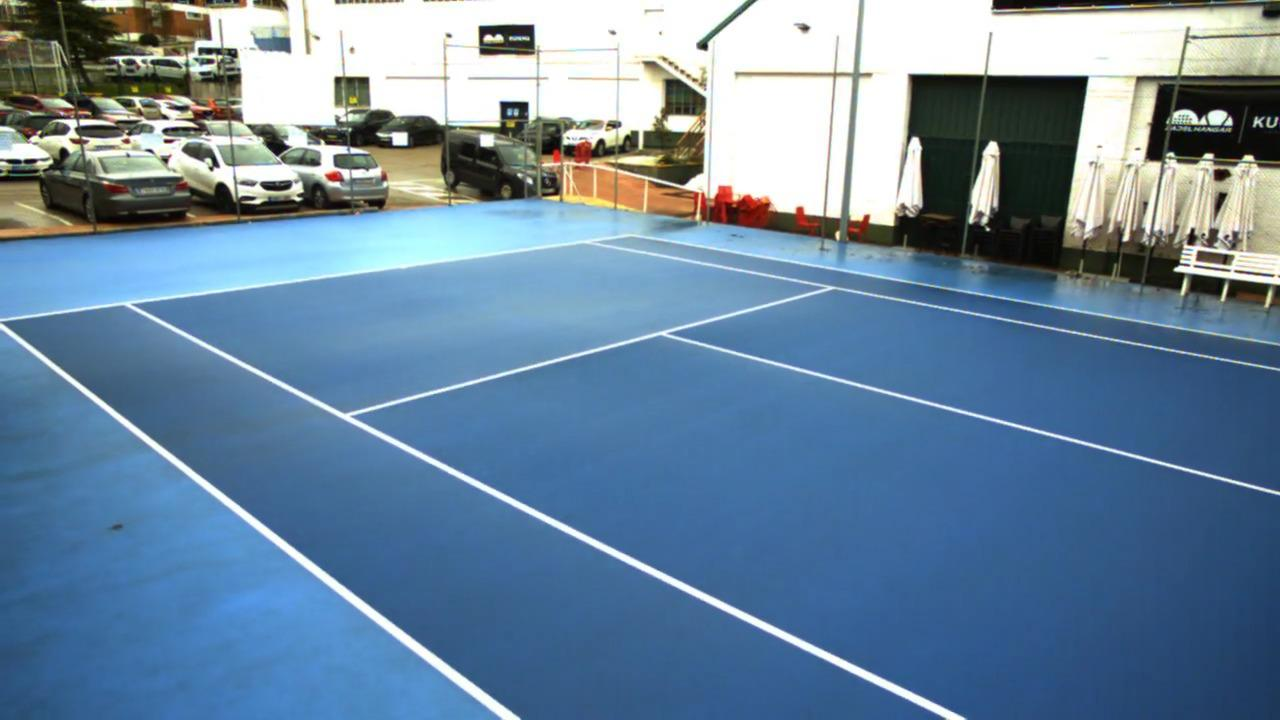cancha_tenis: (127, 239, 1280, 720)
point_f1: (117, 292, 145, 316)
point_f2: (579, 230, 598, 251)
point_fc1: (392, 257, 412, 274)
point_i1: (333, 403, 368, 431)
point_i2: (812, 278, 843, 300)
point_ic1: (650, 322, 684, 347)
